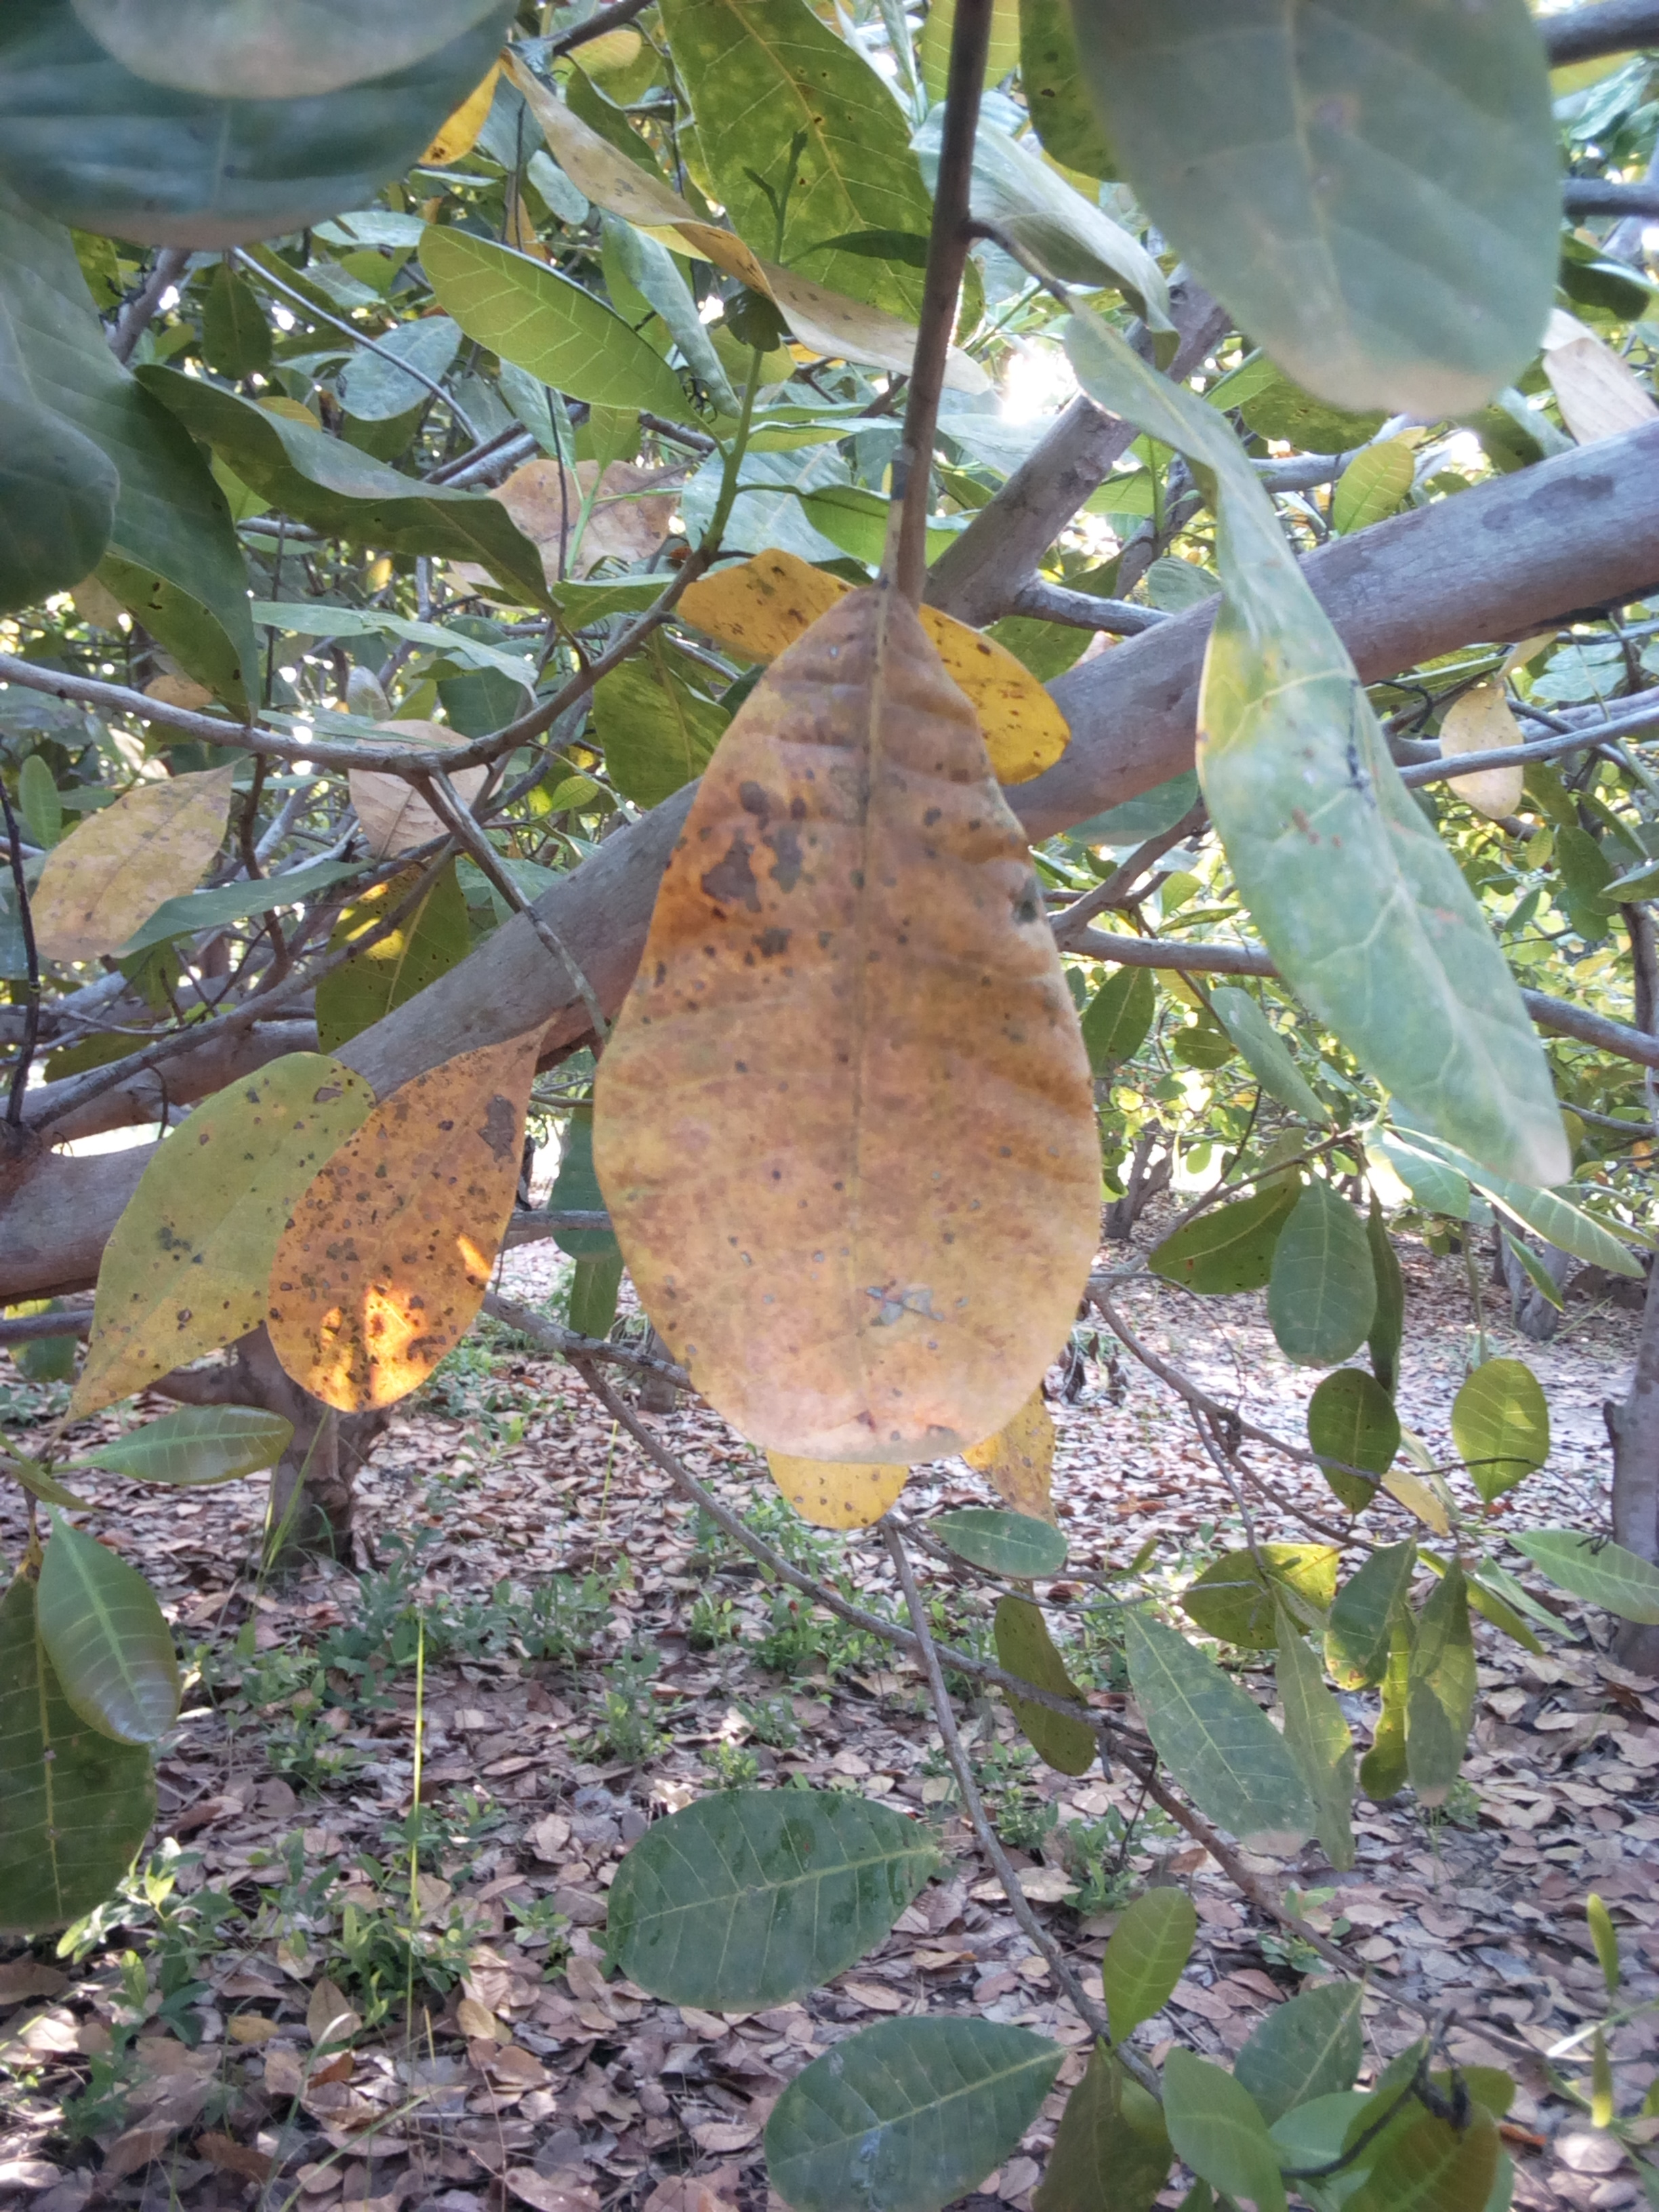Bactériose: (603, 597, 1105, 1465), (263, 1021, 565, 1418), (87, 1066, 382, 1407)
